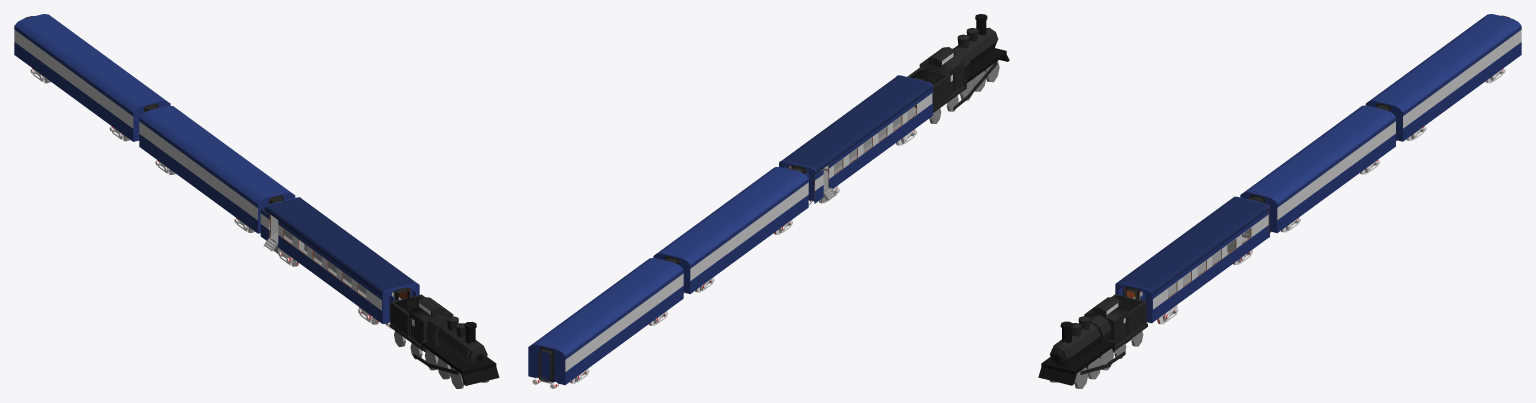
File: env_station_train.fbx
The picture shows the model from 3 angles, left to right: view 1: azimuth 30°, elevation 25°; view 2: azimuth 150°, elevation 25°; view 3: azimuth 330°, elevation 25°; orthographic projection.
Visible parts, largest first — view 1: carriage (×2), ceiling_non_hollow_1 (×7), boiler, polySurface3, locomotive_cockpit, carriage_rear_wall3, polySurface5; view 2: carriage (×2), ceiling_non_hollow_1 (×7), locomotive_cockpit, boiler, polySurface3, polySurface5; view 3: carriage (×2), ceiling_non_hollow_1 (×7), boiler, polySurface3, locomotive_cockpit, polySurface5, carriage_rear_wall3.
Part boxes in pixels (x1,y1,x2,y2): carriage (×2): (14,14,295,233); ceiling_non_hollow_1 (×7): (282,210,412,292); boiler: (425,315,487,366); polySurface3: (423,341,499,385); locomotive_cockpit: (409,297,453,344); carriage_rear_wall3: (382,283,419,323); polySurface5: (390,294,424,335); carriage (×2): (528,167,808,384); ceiling_non_hollow_1 (×7): (799,79,927,160); locomotive_cockpit: (919,47,963,94); boiler: (952,27,998,75); polySurface3: (964,48,1009,82); polySurface5: (907,68,950,110); carriage (×2): (1240,14,1521,233); ceiling_non_hollow_1 (×7): (1122,209,1251,291); boiler: (1050,314,1111,366); polySurface3: (1038,341,1114,385); locomotive_cockpit: (1084,297,1128,344); polySurface5: (1112,294,1146,335); carriage_rear_wall3: (1115,282,1152,323).
Bounding box in the file's own units: 497 × 647 × 8552.
Materials: 3 (2 with a texture image).
